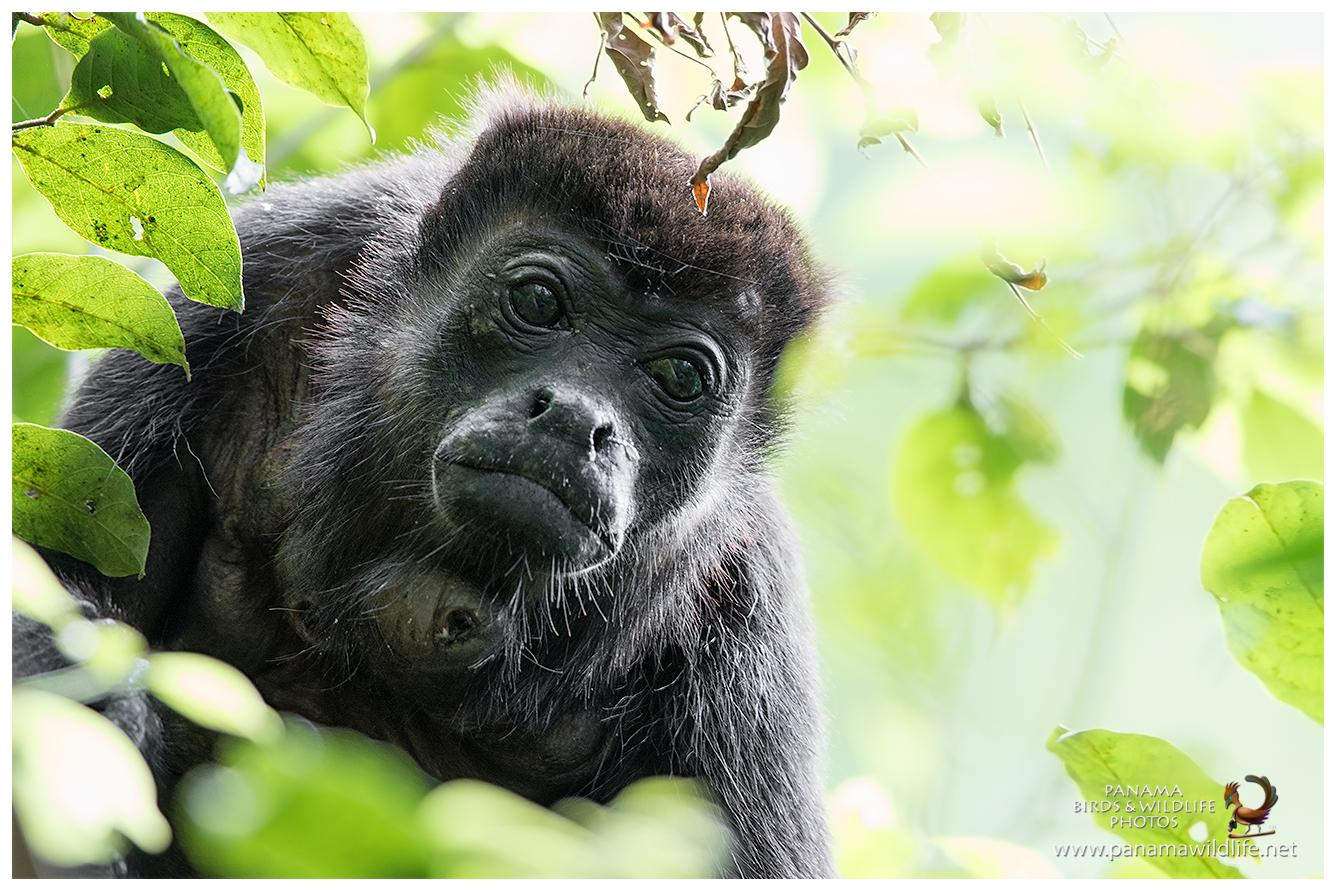monkey: (197, 115, 831, 881)
